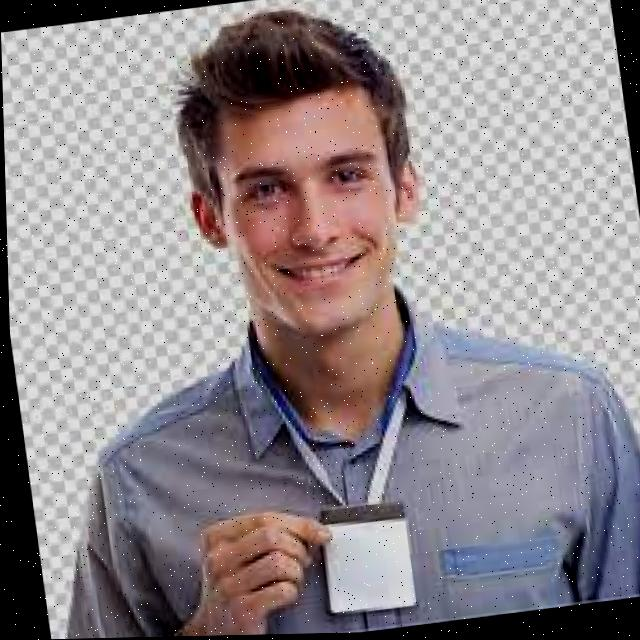id_card: (253, 358, 448, 625)
